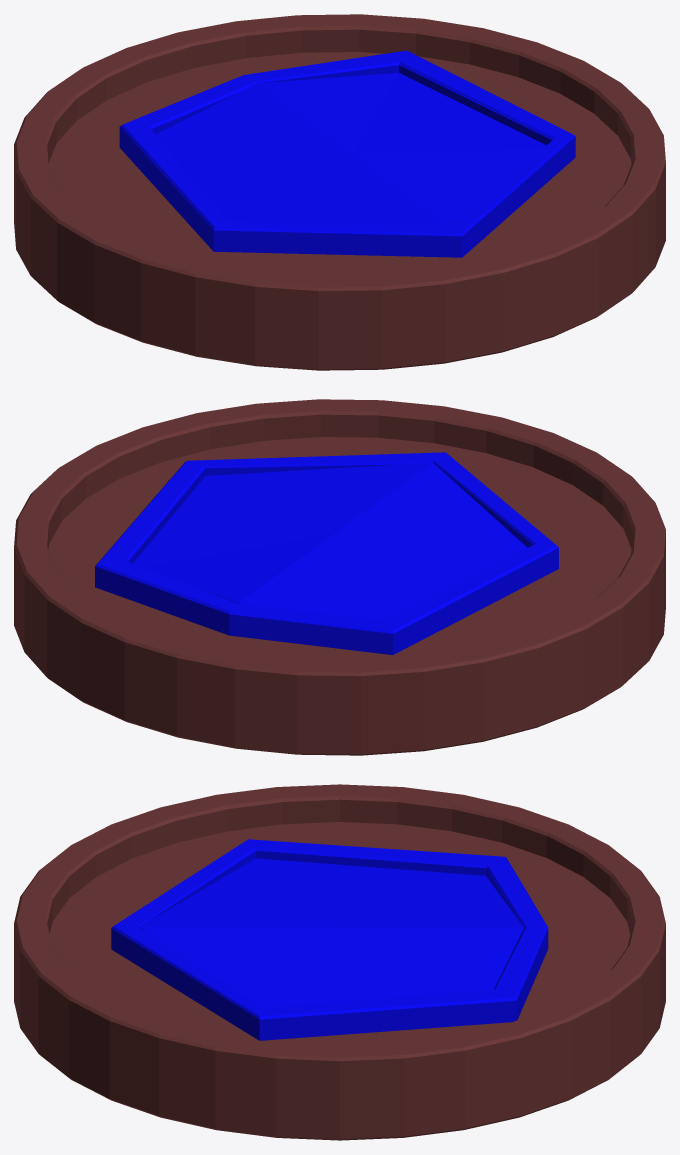
File: ArmorCoin.fbx
The picture shows the model from 3 angles, top to bottom: view 1: azimuth 30°, elevation 25°; view 2: azimuth 150°, elevation 25°; view 3: azimuth 270°, elevation 25°; orthographic projection.
Parts seen in each view (by area): view 1: Coin; view 2: Coin; view 3: Coin.
Part boxes in pixels (<box>): Coin: <box>14,14,665,370</box>; Coin: <box>14,399,665,755</box>; Coin: <box>14,784,665,1140</box>.
Bounding box in the file's own units: 200 × 28.06 × 200.
